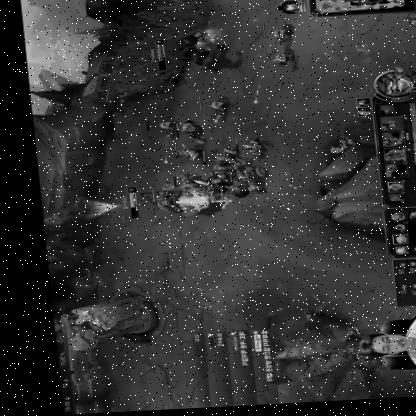streamer: (347, 309, 416, 386)
